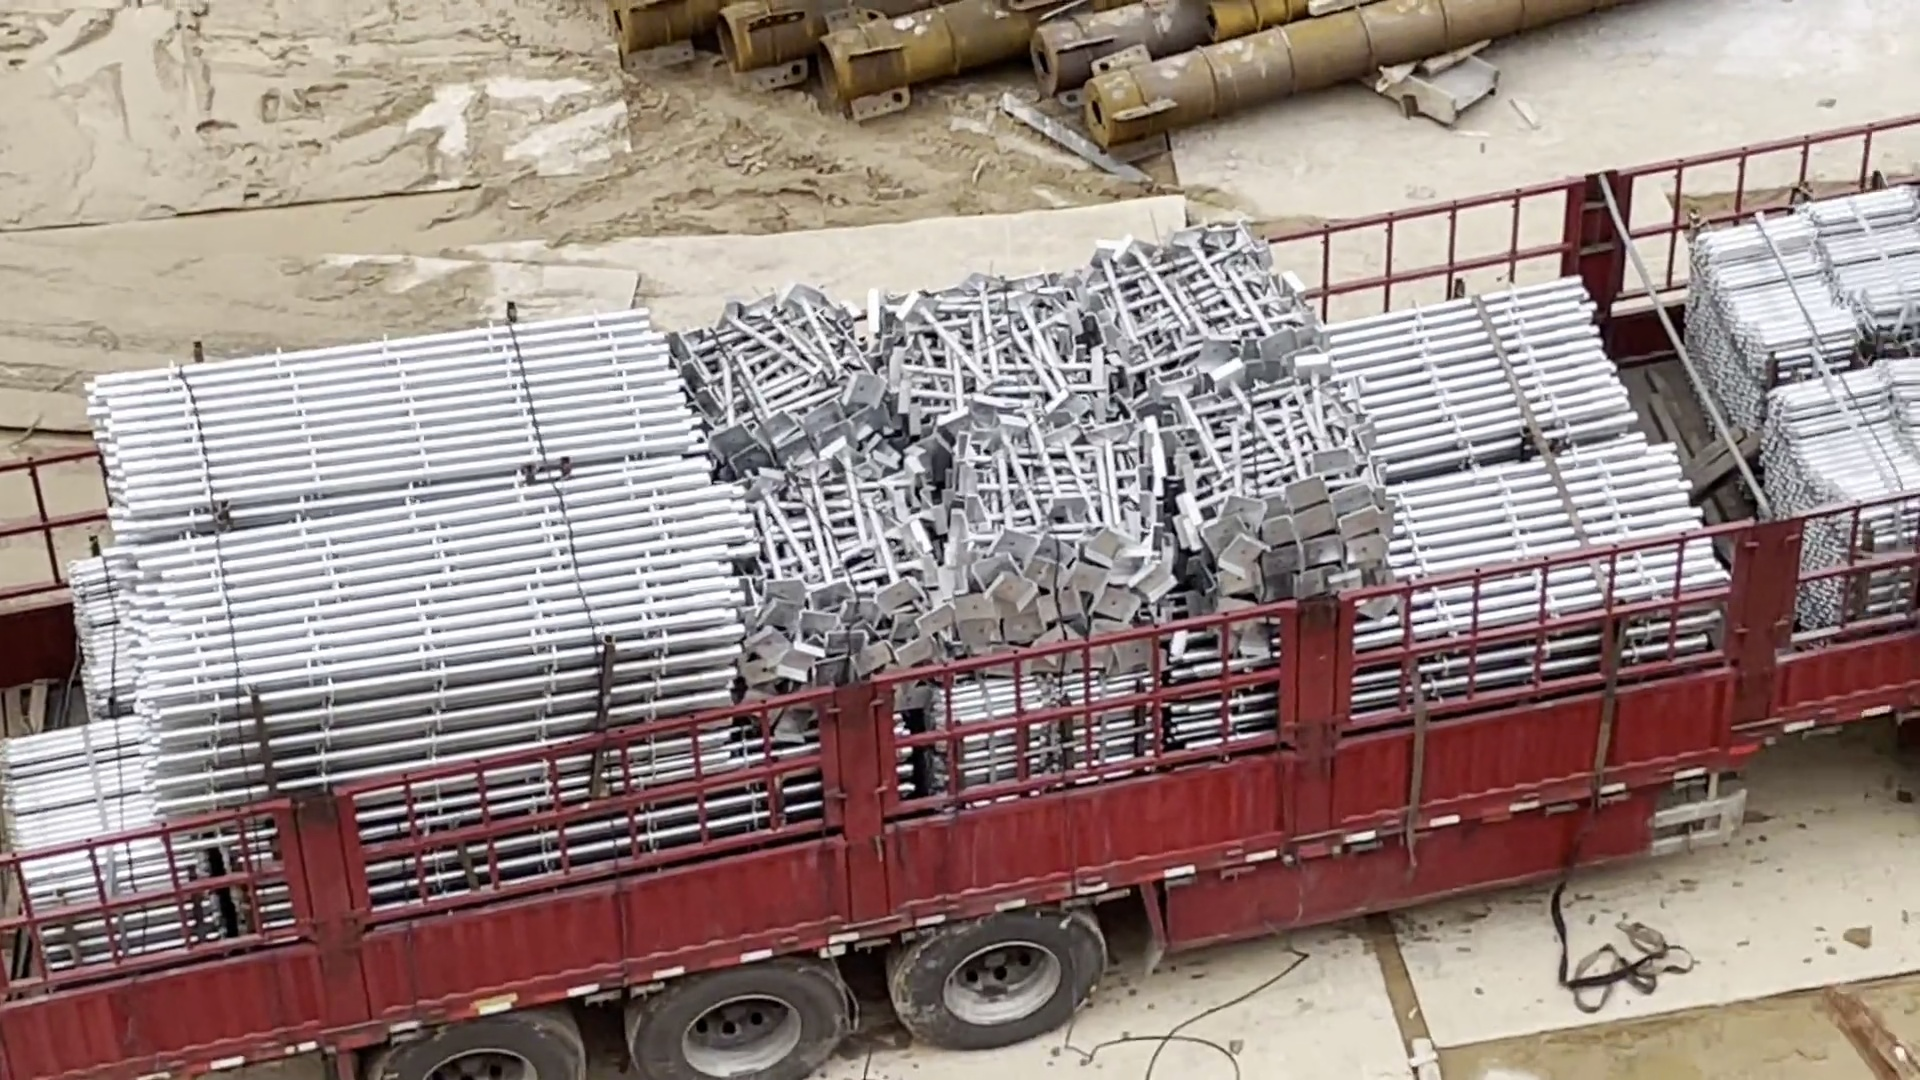scaffold: (1, 309, 736, 960), (1327, 268, 1726, 708), (1684, 183, 1920, 626)
